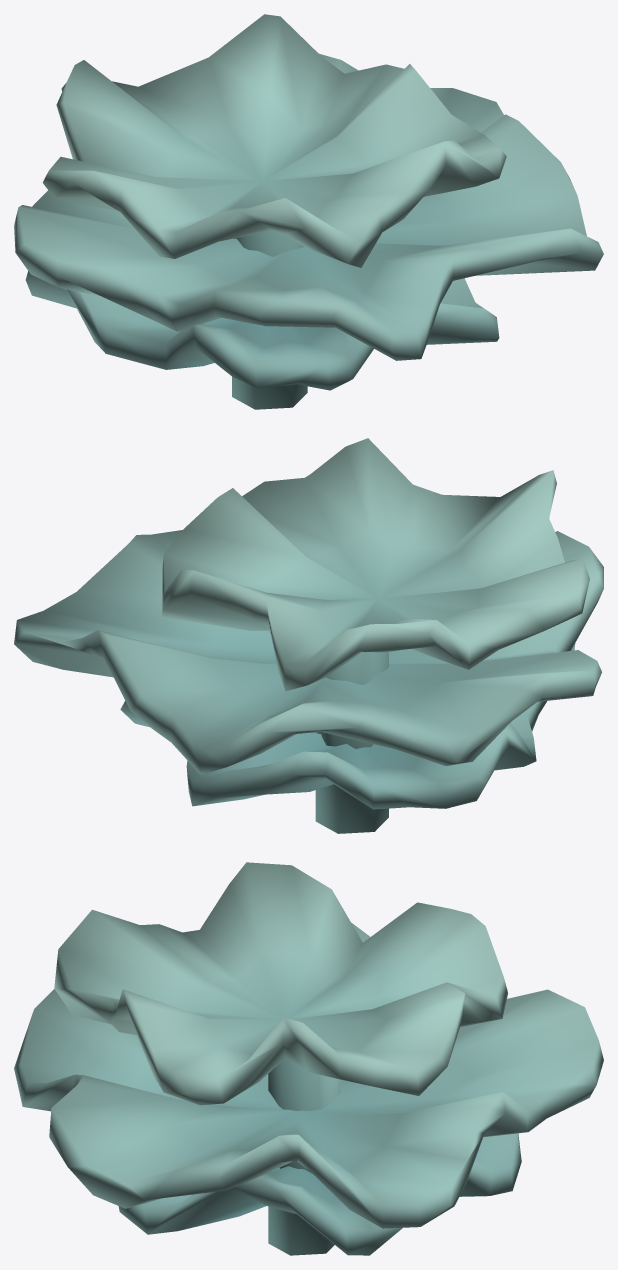
The model's file is plate_coral_low.glb.
3 renders of one model, top to bottom at view 1: azimuth 30°, elevation 25°; view 2: azimuth 150°, elevation 25°; view 3: azimuth 270°, elevation 25°, orthographic. The views are drawn at different scales.
Visible parts, largest first — view 1: world; view 2: world; view 3: world.
Boxes of the visible parts, box(x1,y1,x2,y2) form: world: box(14, 14, 603, 409); world: box(14, 438, 603, 833); world: box(14, 862, 603, 1255).
Bounding box in the file's own units: 1.61 × 0.8685 × 1.61.
